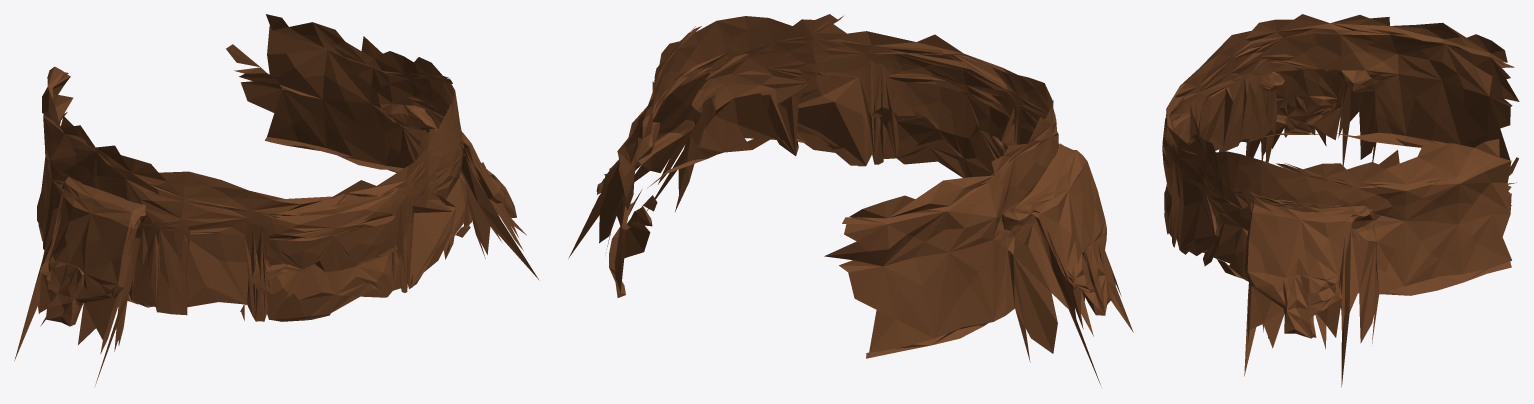
File: kleidung.guertel.v003.glb
3 views of the same model, side by side, from view 1: azimuth 30°, elevation 25°; view 2: azimuth 150°, elevation 25°; view 3: azimuth 270°, elevation 25° (orthographic). The views are drawn at different scales.
Parts seen in each view (by area): view 1: kleidung.guertel.v003.001; view 2: kleidung.guertel.v003.001; view 3: kleidung.guertel.v003.001.
Boxes of the visible parts, <box> form: kleidung.guertel.v003.001: <box>14,14,539,385</box>; kleidung.guertel.v003.001: <box>568,14,1133,386</box>; kleidung.guertel.v003.001: <box>1162,14,1519,387</box>.
Bounding box in the file's own units: 0.4904 × 0.2054 × 0.342.
